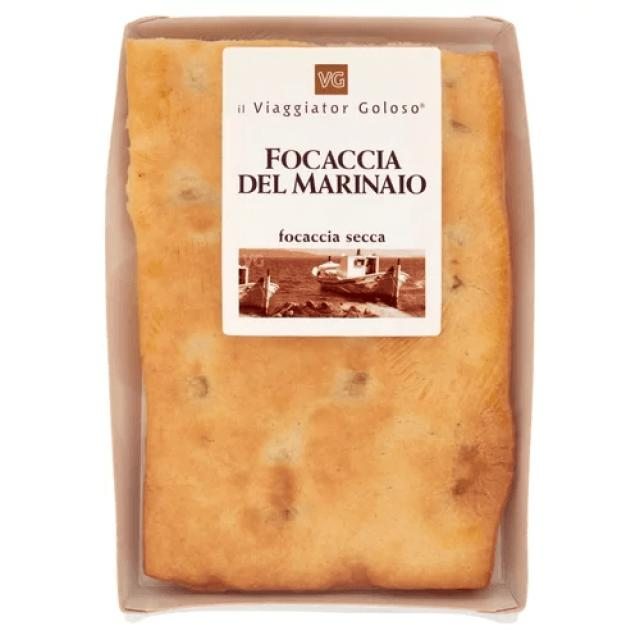Bread loaf: (113, 17, 532, 616)
